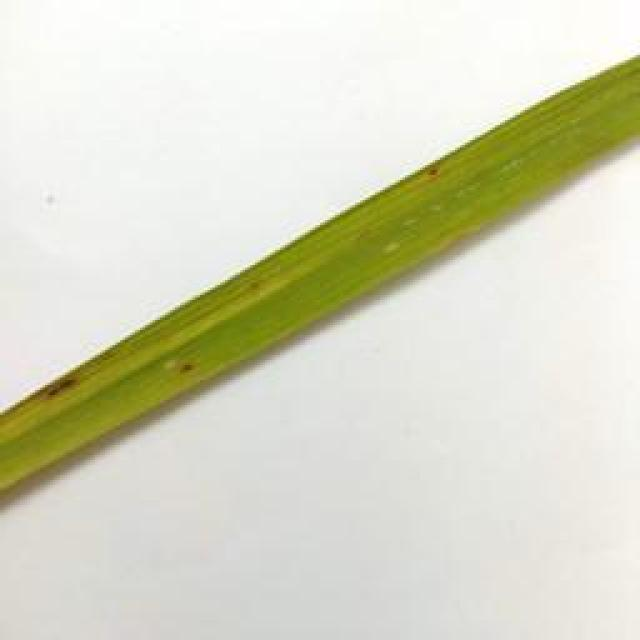Brown_Spot: (0, 342, 118, 427), (233, 266, 270, 292), (165, 356, 202, 379), (416, 156, 446, 183)
